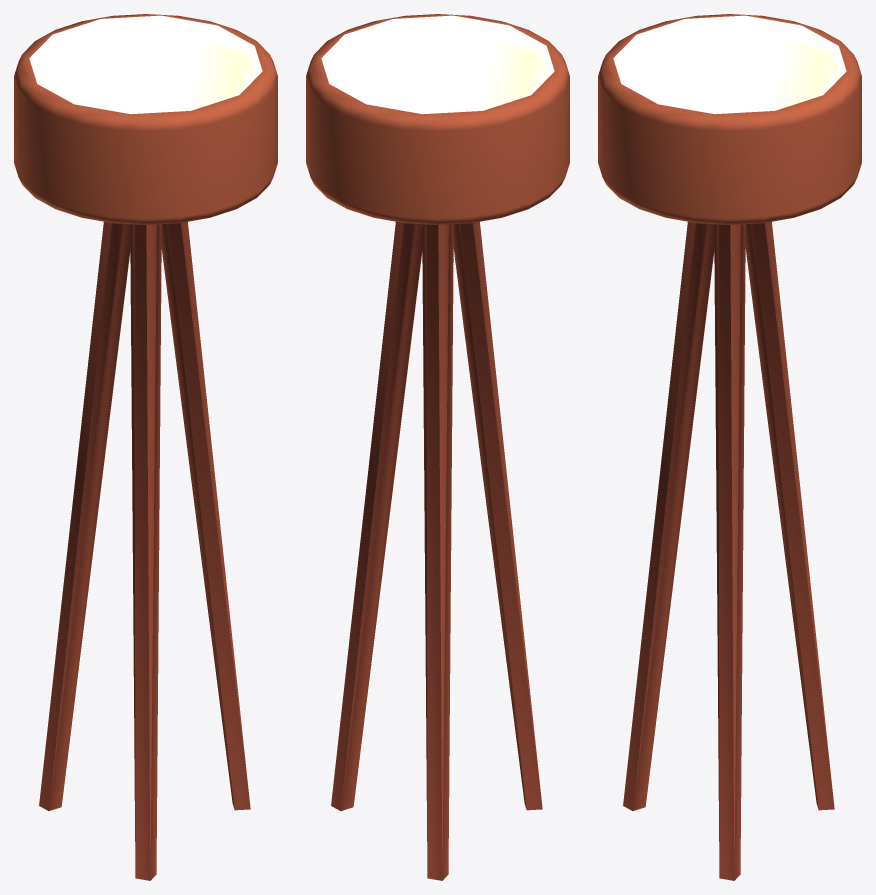
Rendered from luminaria_chao_tripe_pacote.glb.
3 renders of one model, left to right at view 1: azimuth 30°, elevation 25°; view 2: azimuth 150°, elevation 25°; view 3: azimuth 270°, elevation 25°, orthographic.
Parts seen in each view (by area): view 1: luminaria_chao_tripe_pacote; view 2: luminaria_chao_tripe_pacote; view 3: luminaria_chao_tripe_pacote.
Part boxes in pixels (box(x1,y1,x2,y2)): luminaria_chao_tripe_pacote: box(14, 14, 277, 880); luminaria_chao_tripe_pacote: box(306, 14, 569, 880); luminaria_chao_tripe_pacote: box(598, 14, 861, 880).
Bounding box in the file's own units: 0.4375 × 1.4 × 0.4375.
2 materials, 1 textured.
